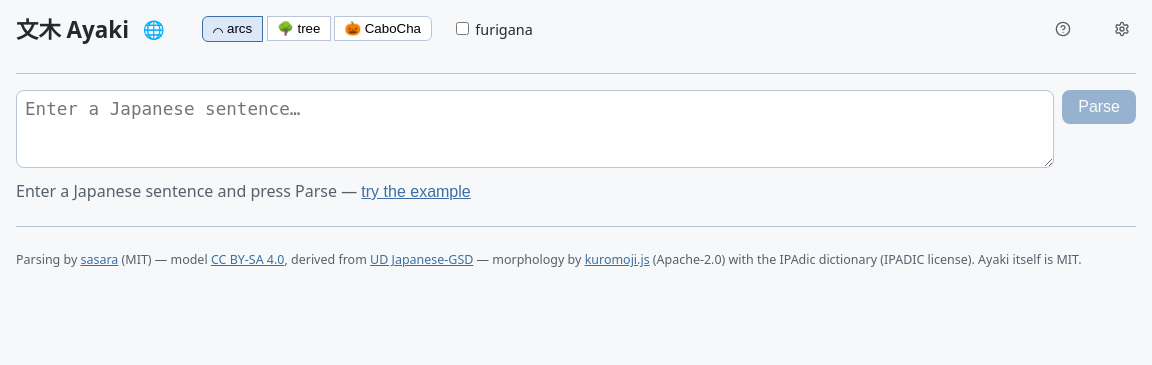
Test: App › shows the error banner in the entry band with no results grid
Type "猫。" into the text box.
click(535, 129); type("猫。")  # box [16,90,1054,168]
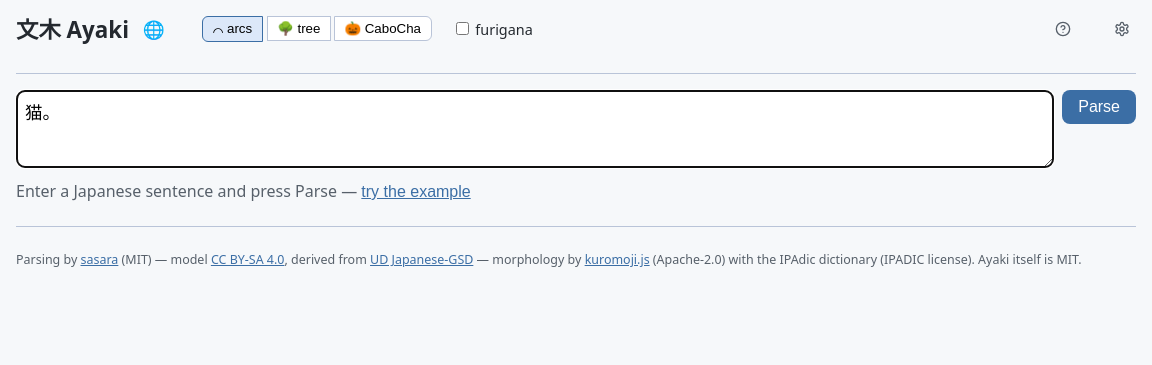
Click the button "Parse".
click(1099, 107)  # box [1062,90,1136,124]
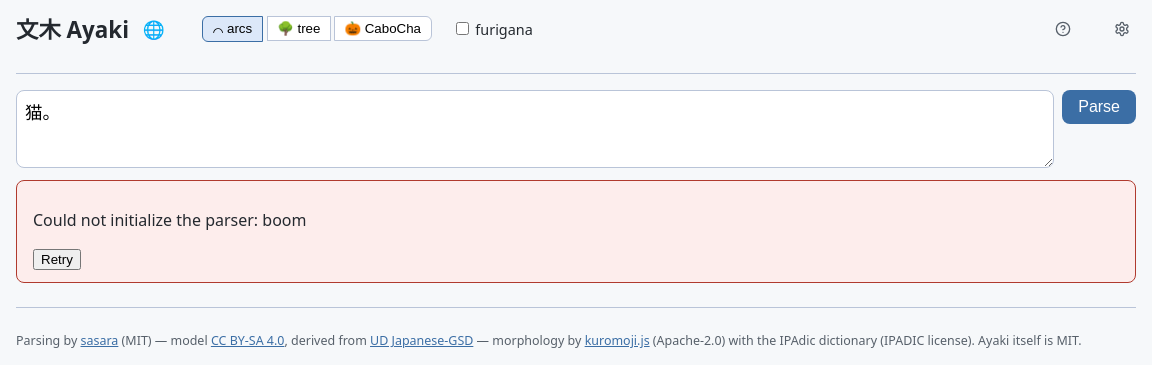
Result: the text "Could not initialize the parser: boom" is shown at [33,209,306,231]
Result: the element with class "error-banner" is shown at [16,180,1136,283]
